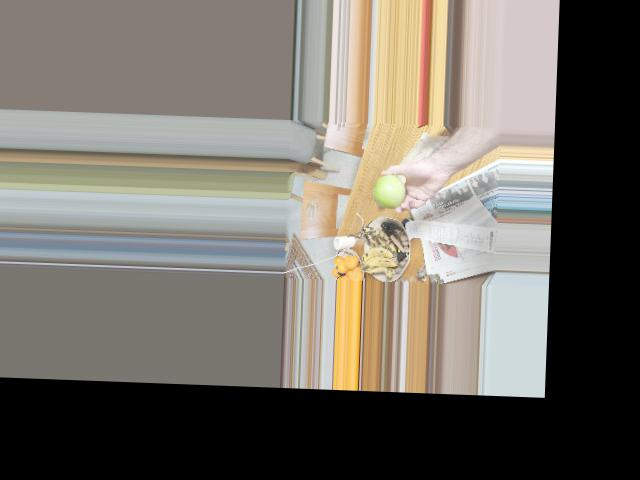apple: (370, 170, 409, 209)
